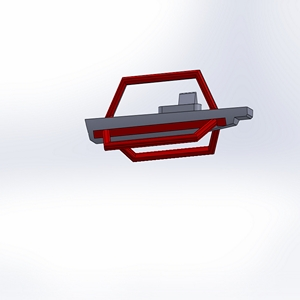submarine: (79, 66, 263, 175)
